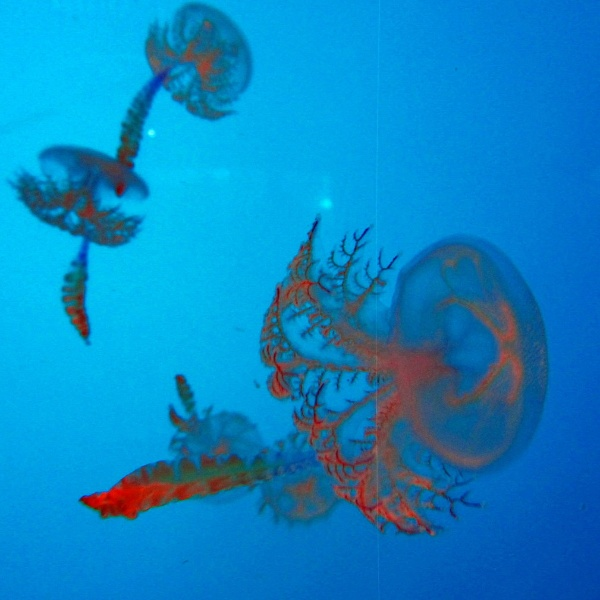Jellyfish: (257, 209, 547, 539), (9, 142, 150, 342), (78, 373, 268, 521), (115, 6, 259, 131), (247, 434, 339, 529)
